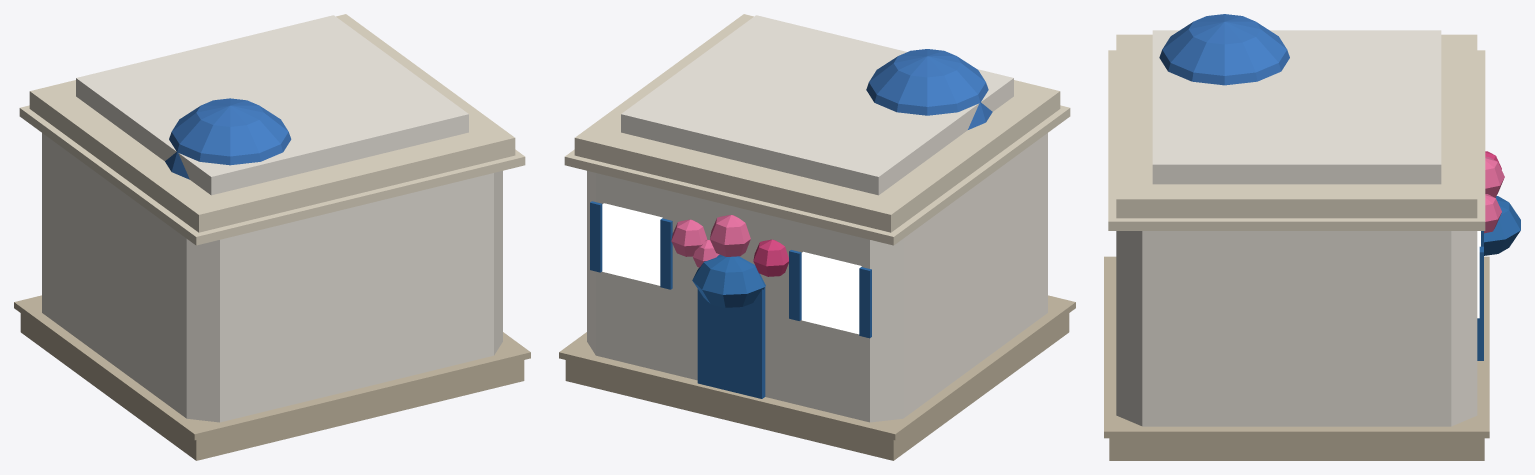
The model's file is xy_house_villa.glb.
The picture shows the model from 3 angles, left to right: view 1: azimuth 30°, elevation 25°; view 2: azimuth 150°, elevation 25°; view 3: azimuth 270°, elevation 25°; orthographic projection. The views are drawn at different scales.
Visible parts, largest first — view 1: House; view 2: House; view 3: House.
Boxes of the visible parts, x1=… form: House: x1=14, y1=14, x2=530, y2=460; House: x1=559, y1=14, x2=1075, y2=460; House: x1=1104, y1=14, x2=1520, y2=460.
Size of the model in its own units: 5.74 by 4.8 by 5.77.
